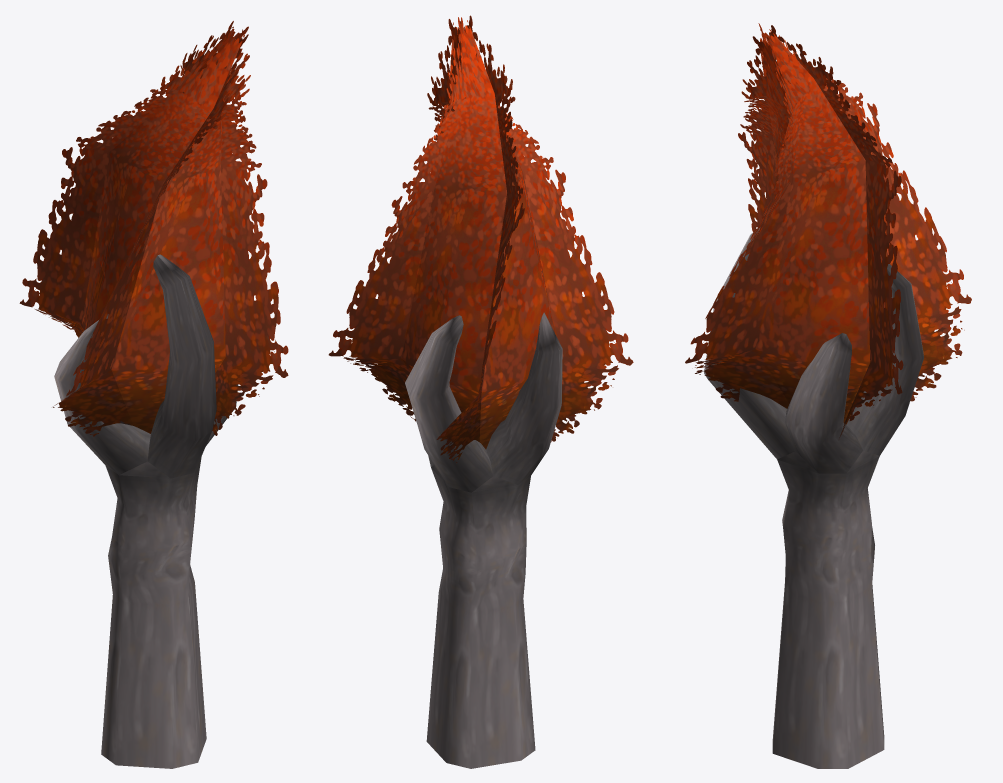
Rendered from tree_cypressRedB.fbx.
3 views of the same model, side by side, from view 1: azimuth 30°, elevation 25°; view 2: azimuth 150°, elevation 25°; view 3: azimuth 270°, elevation 25° (orthographic). The views are drawn at different scales.
Parts seen in each view (by area): view 1: tree_cypress_redB; view 2: tree_cypress_redB; view 3: tree_cypress_redB.
Part boxes in pixels (bbox=[...]): tree_cypress_redB: bbox=[19, 21, 288, 768]; tree_cypress_redB: bbox=[328, 15, 633, 768]; tree_cypress_redB: bbox=[685, 23, 971, 768].
Bounding box in the file's own units: 349 × 900 × 349.
2 materials, 2 textured.
